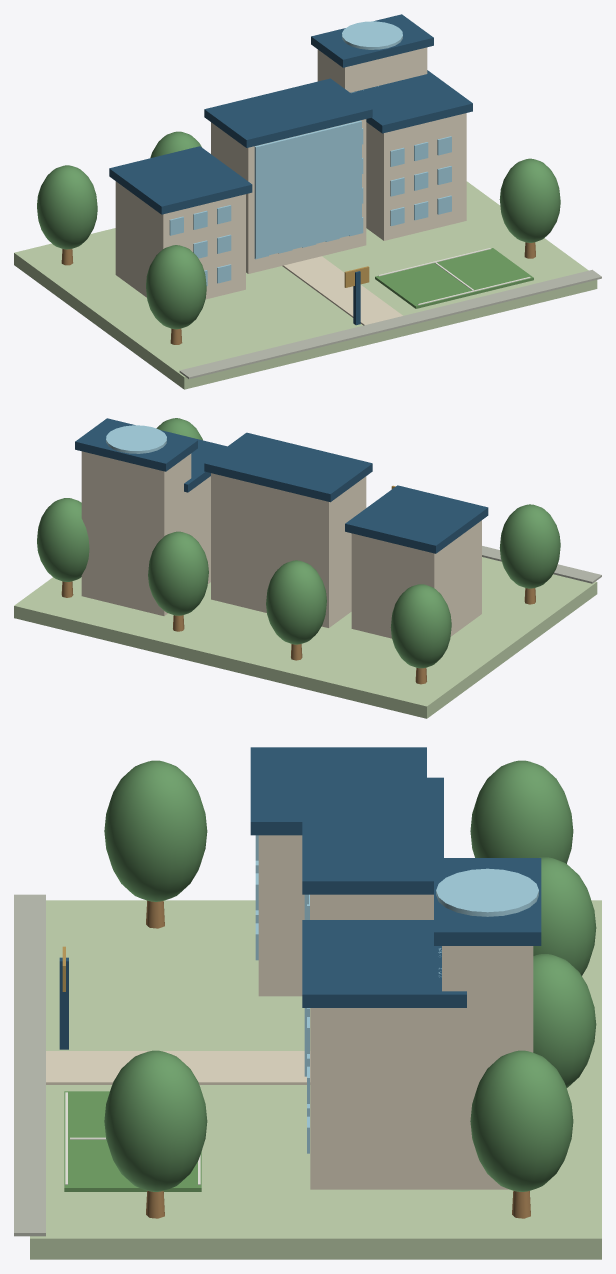
The model's file is campus.glb.
3 views of the same model, one above another, from view 1: azimuth 30°, elevation 25°; view 2: azimuth 150°, elevation 25°; view 3: azimuth 270°, elevation 25° (orthographic). The views are drawn at different scales.
Bounding box in the file's own units: 7 × 2.86 × 5.14.
